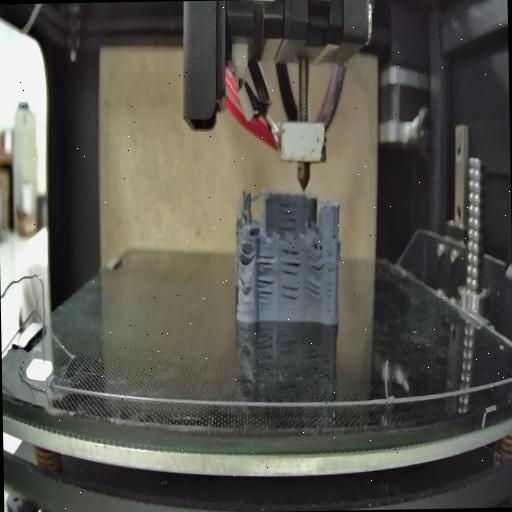cracks: (276, 200, 298, 234), (278, 248, 300, 278), (278, 284, 302, 306), (326, 254, 334, 316), (256, 278, 276, 302), (306, 250, 324, 276), (255, 252, 276, 274), (306, 279, 322, 301), (330, 226, 338, 242), (238, 249, 246, 263), (240, 275, 246, 286)
